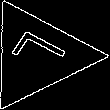L_SE: (3, 29, 72, 82)
